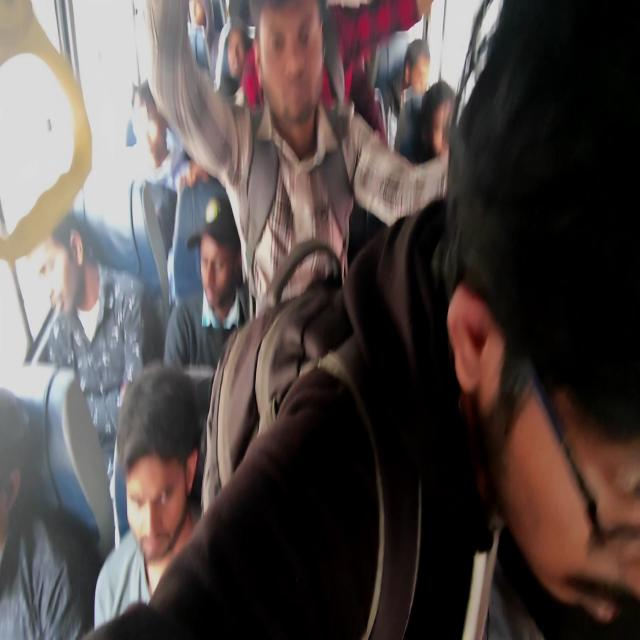person: (483, 34, 637, 618), (258, 1, 336, 130), (134, 418, 199, 568), (28, 211, 94, 335), (0, 397, 38, 532), (126, 86, 178, 184), (420, 94, 464, 175), (200, 236, 241, 312), (399, 34, 438, 95), (218, 37, 252, 90), (186, 3, 211, 36)
